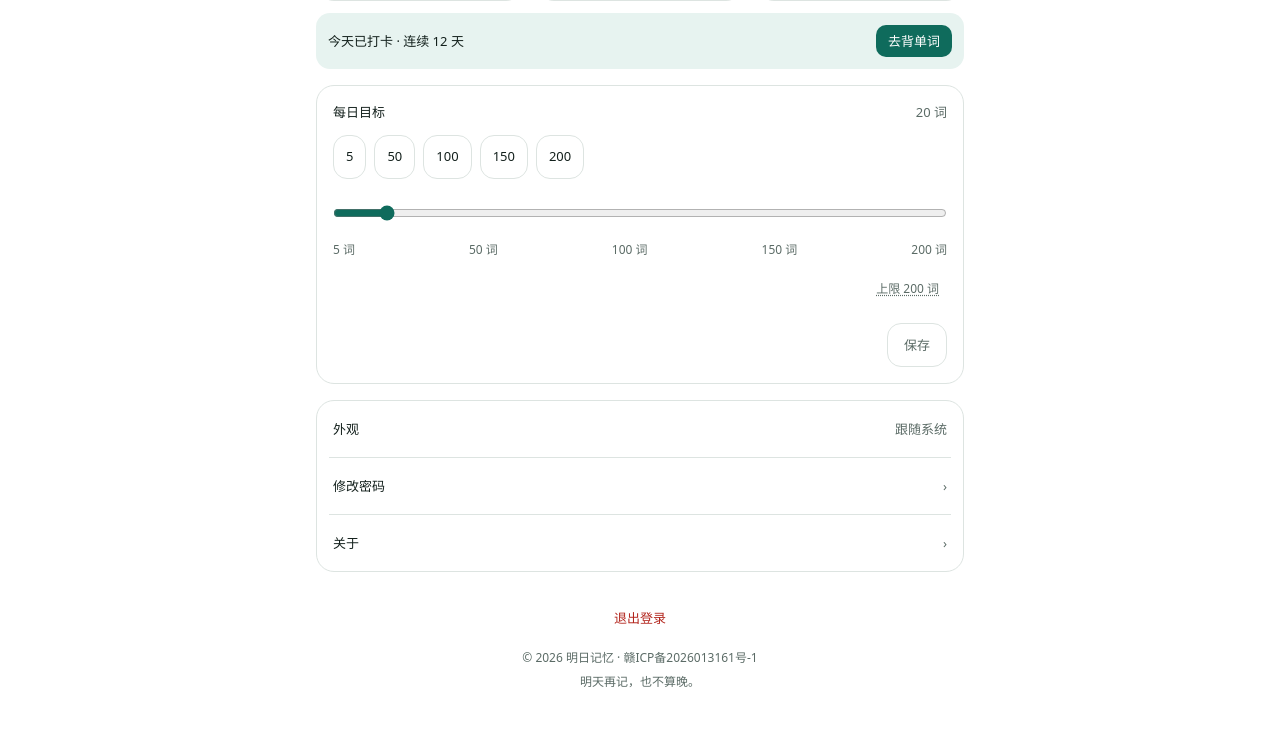
Scenario: K 组 · G 区退出登录（§3.8.1:958 单独一行危险色 + §3.8.2:973 必过 ConfirmSheet；清凭据只经 auth-store.signOut()） › K-03 点触发只开确认层：四槽逐字 = SETTINGS_COPY.signOut.{title,body,confirm,cancel}、danger 档，此刻凭据未清、页未跳
(page scrolled)
Click the button "退出登录" at (640, 618), box [598, 596, 682, 640]
Wait 80 ms
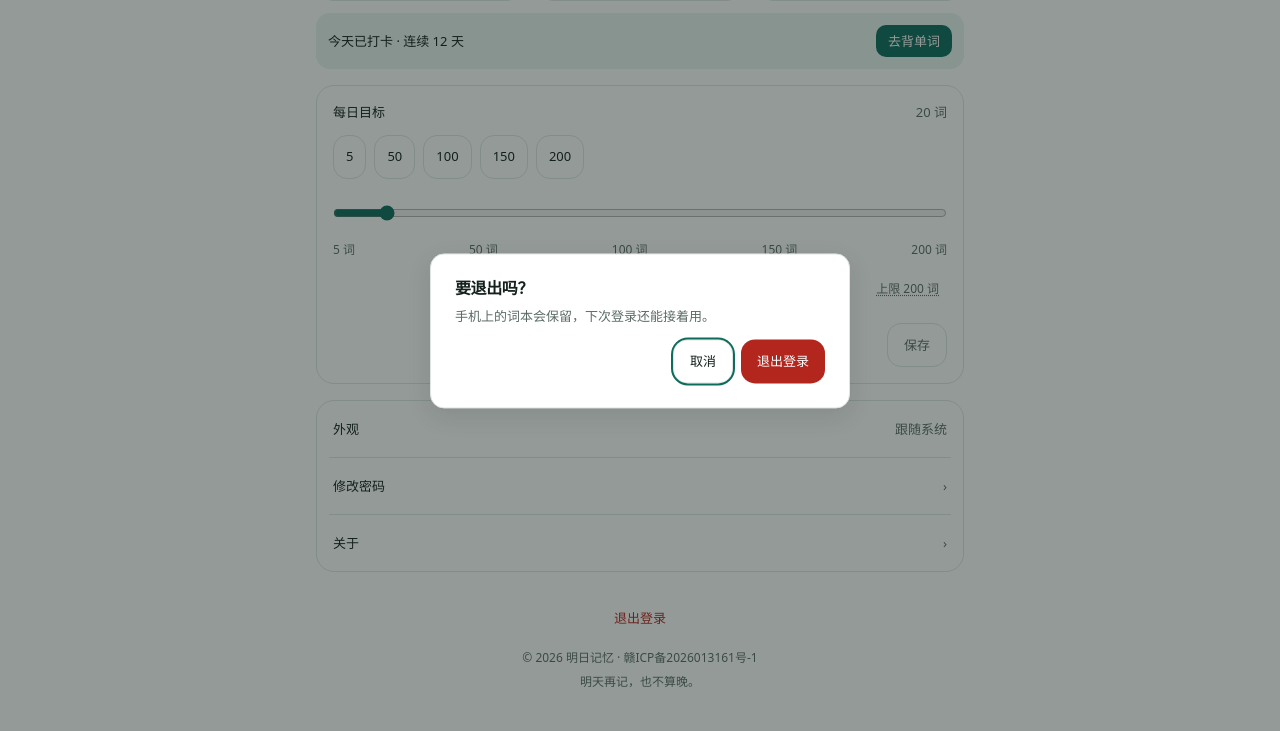
Expected: the dialog with test id "me-signout" is shown, [430, 253, 850, 408]
